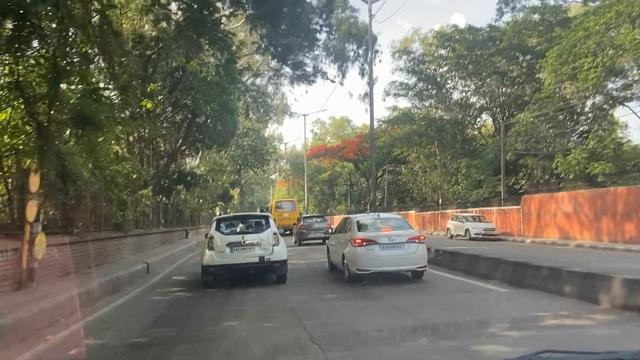LMV: (333, 212, 428, 274), (207, 215, 286, 279), (295, 215, 331, 244)
RoadDamages: (277, 298, 324, 360)
